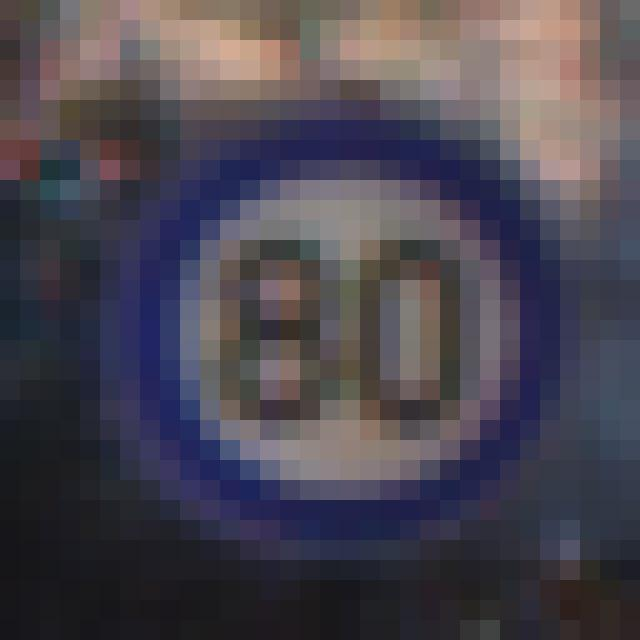SPEED-LIMIT-80: (106, 125, 566, 531)
